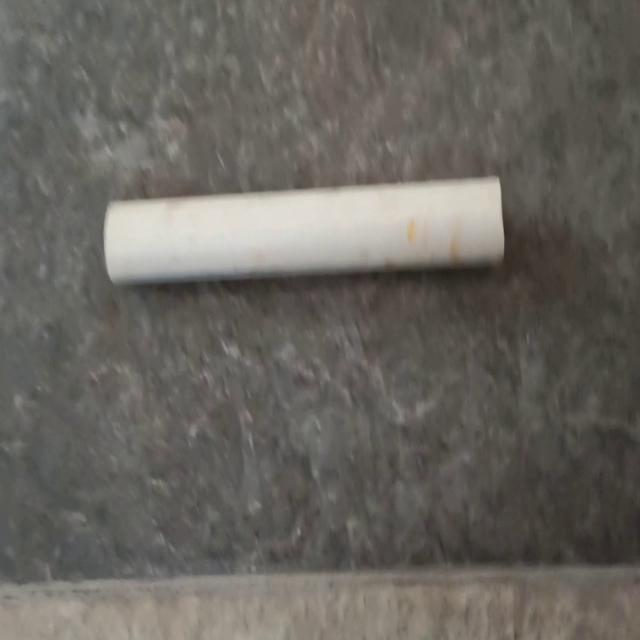Cube: (102, 172, 506, 286)
